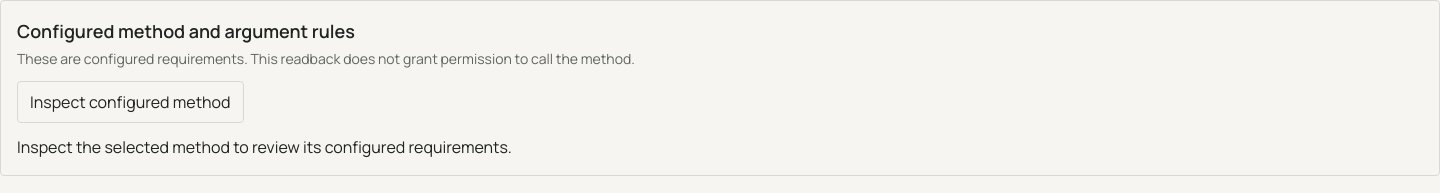
it: clears the old method immediately and ignores a late previous response
Later steps or results of the test are not shown.
Click the button "Inspect configured method" at (130, 102), box [17, 81, 244, 123]
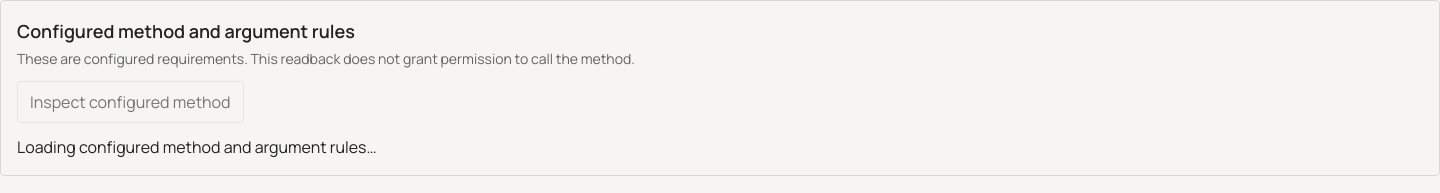
Expected: the message shows "Loading", [17, 136, 377, 158]
